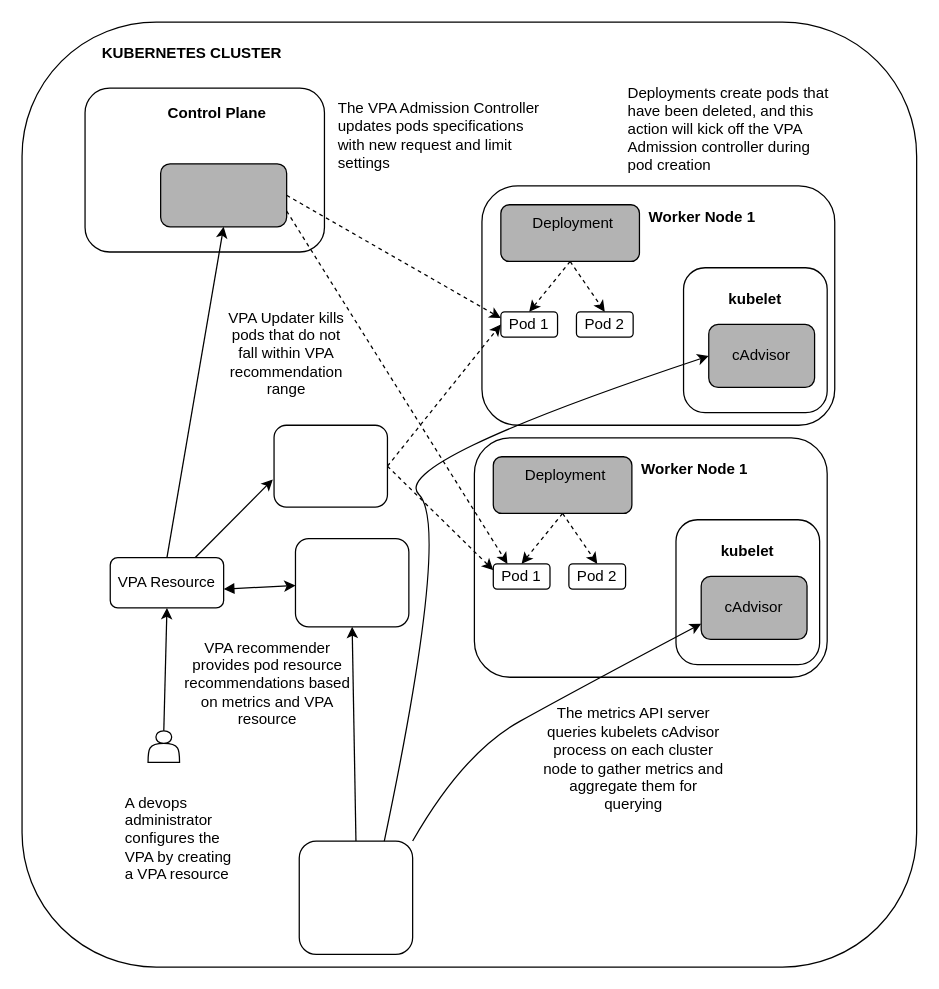
The diagram is 939 pixels wide and 989 high, and some of its shapes have lost their labels. The centre of each missing label's shape, as x and y in pixels:
Metrics API Server: point 355,897
VPA Admission Controller: point 223,195
VPA Recommender: point 351,582
VPA Updater: point 330,465
